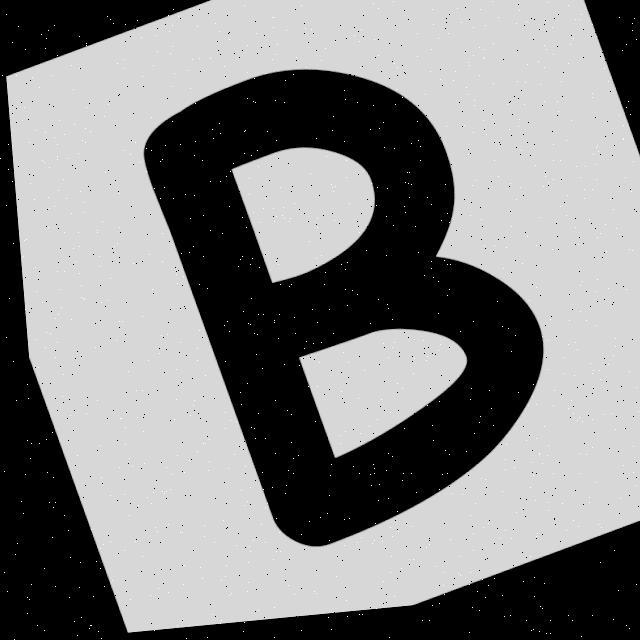B: (141, 75, 535, 551)
